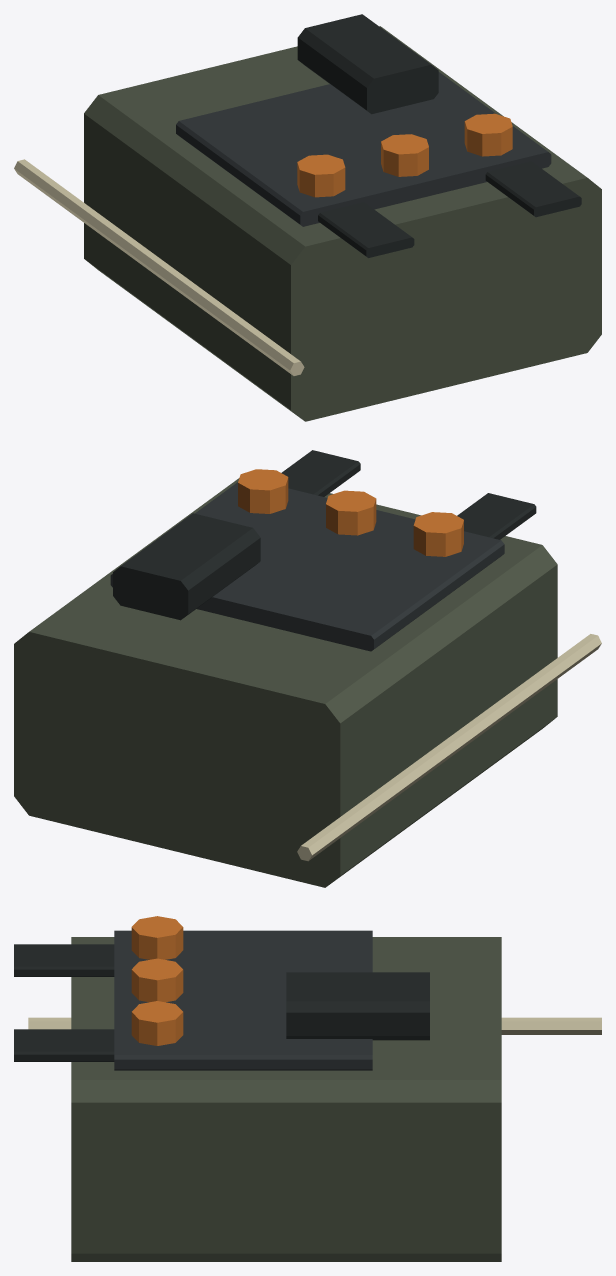
The model's file is RadioPack.gltf.
The picture shows the model from 3 angles, top to bottom: view 1: azimuth 30°, elevation 25°; view 2: azimuth 150°, elevation 25°; view 3: azimuth 270°, elevation 25°; orthographic projection. The views are drawn at different scales.
Parts seen in each view (by area): view 1: RadioPack; view 2: RadioPack; view 3: RadioPack.
Part boxes in pixels (box(x1,y1,x2,y2)): RadioPack: box(14, 14, 601, 421); RadioPack: box(14, 450, 601, 887); RadioPack: box(14, 916, 601, 1261).
Bounding box in the file's own units: 0.278 × 0.18 × 0.41.
